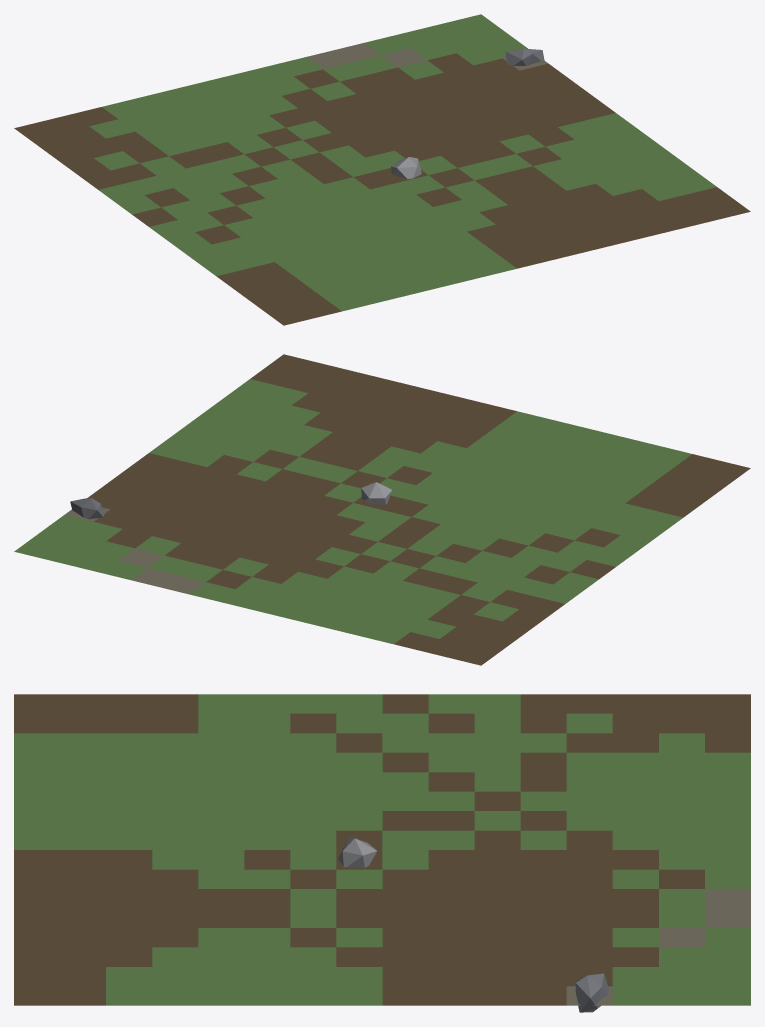
The model's file is chunk_0_20.glb.
3 renders of one model, top to bottom at view 1: azimuth 30°, elevation 25°; view 2: azimuth 150°, elevation 25°; view 3: azimuth 270°, elevation 25°, orthographic. The views are drawn at different scales.
Parts seen in each view (by area): view 1: chunk_0_20; view 2: chunk_0_20; view 3: chunk_0_20.
Boxes of the visible parts, x1,y1,x2,y2 form: chunk_0_20: (14,14,750,325); chunk_0_20: (14,354,750,665); chunk_0_20: (14,694,750,1012).
Bounding box in the file's own units: 16.09 × 0.9155 × 16.
